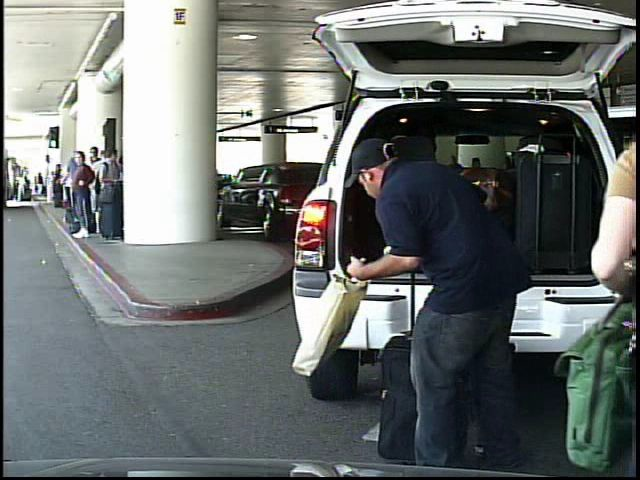person: (336, 116, 528, 480), (17, 174, 28, 205), (36, 171, 46, 198)
